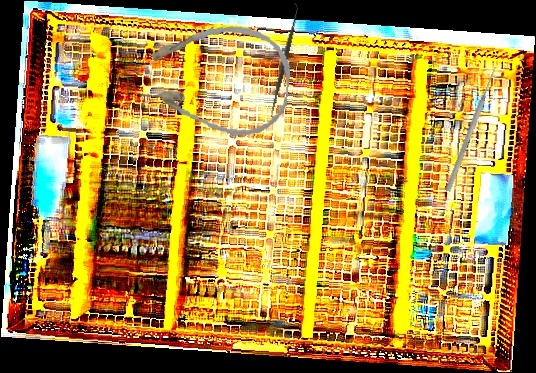Cannula: (136, 16, 295, 141)
Pusher: (443, 65, 500, 193)
Spatula Surgical: (264, 2, 305, 119)
